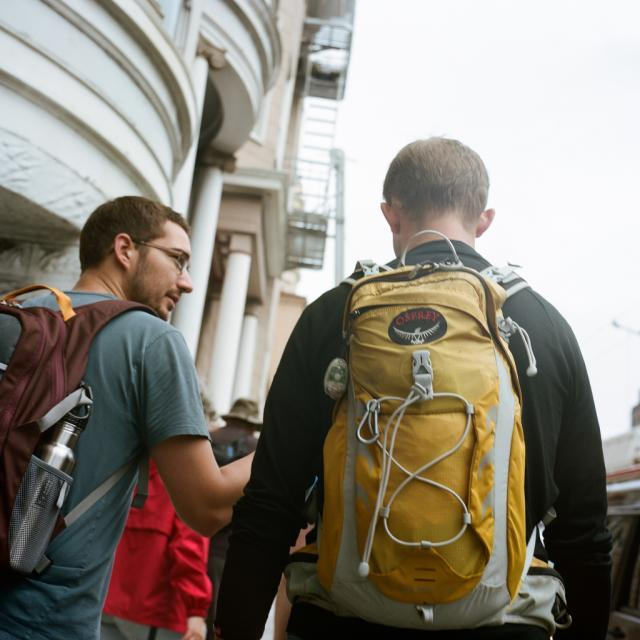backpack: (302, 262, 537, 630), (0, 297, 149, 571)
